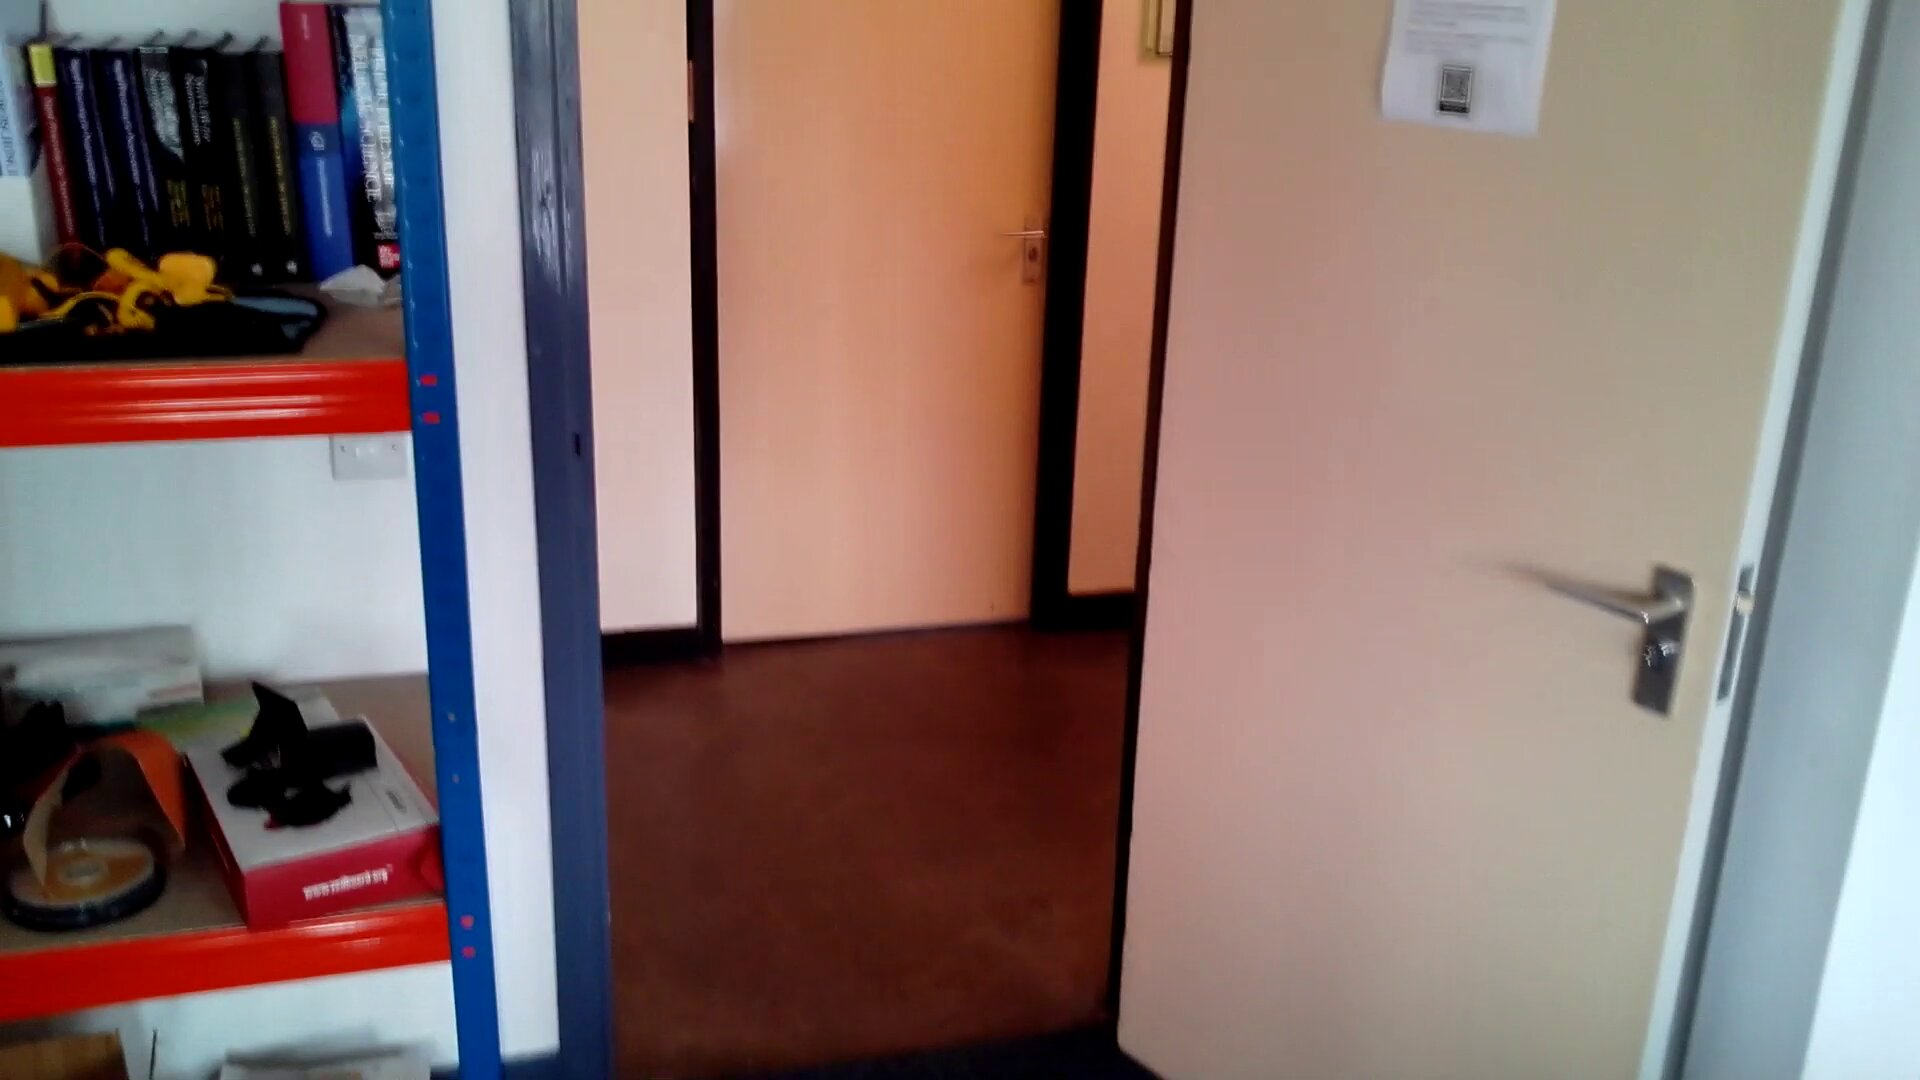Door: (1174, 5, 1792, 1080), (702, 5, 1069, 665)
